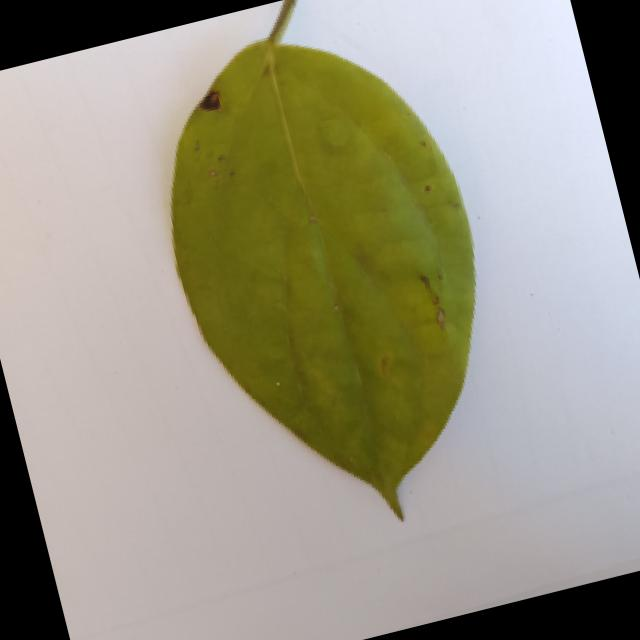slow-decline: (117, 0, 544, 550)
